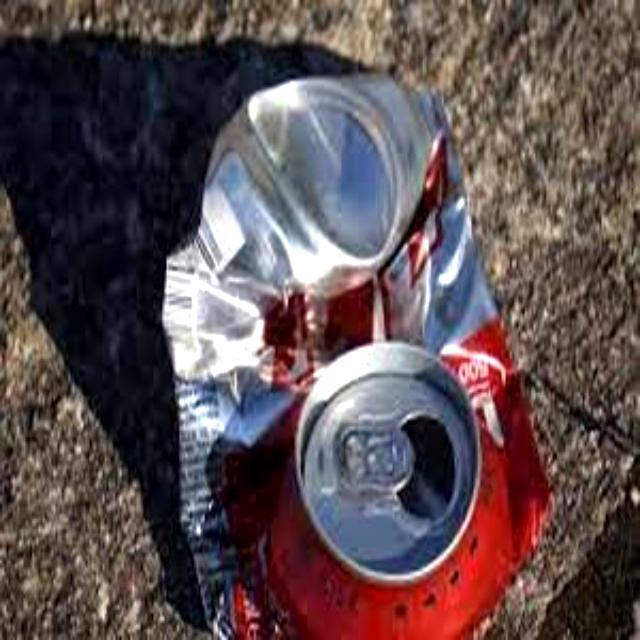Metal: (161, 65, 555, 640)
